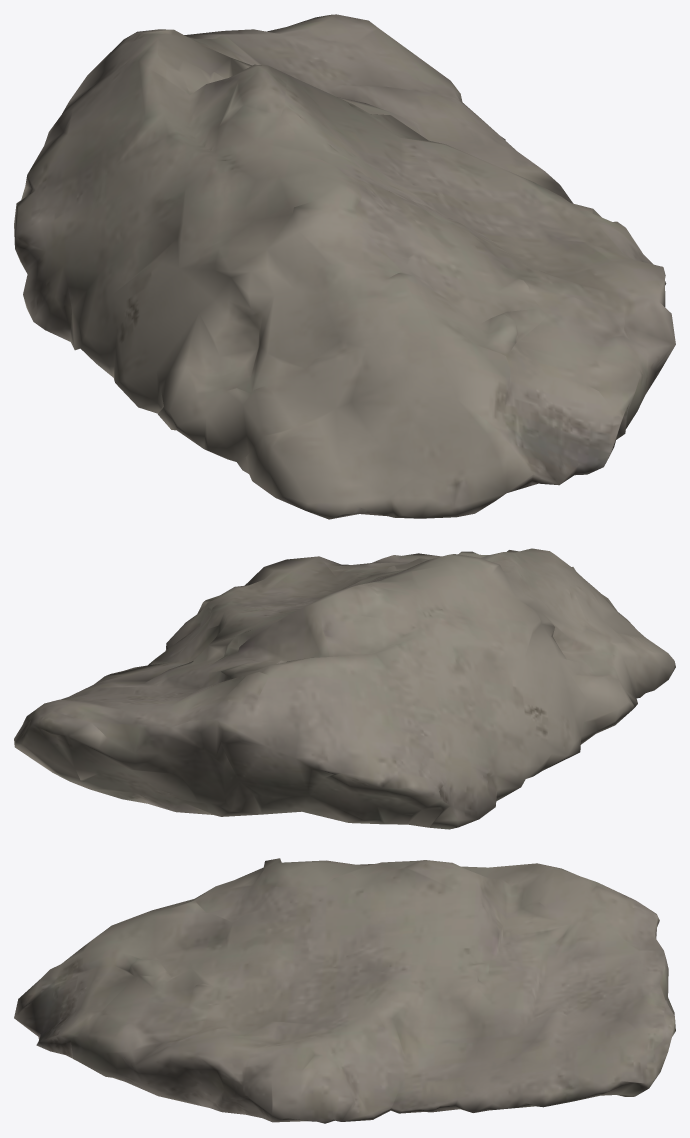
Rendered from moon_rock_04.glb.
The picture shows the model from 3 angles, top to bottom: view 1: azimuth 30°, elevation 25°; view 2: azimuth 150°, elevation 25°; view 3: azimuth 270°, elevation 25°; orthographic projection. The views are drawn at different scales.
Visible parts, largest first — view 1: moon_rock_04_LOD0; view 2: moon_rock_04_LOD0; view 3: moon_rock_04_LOD0.
Part boxes in pixels (box(x1,y1,x2,y2)): moon_rock_04_LOD0: box(14, 14, 675, 519); moon_rock_04_LOD0: box(14, 548, 675, 829); moon_rock_04_LOD0: box(14, 858, 675, 1123).
Size of the model in its own units: 0.1198 by 0.0537 by 0.1738.
1 material, 1 textured.
